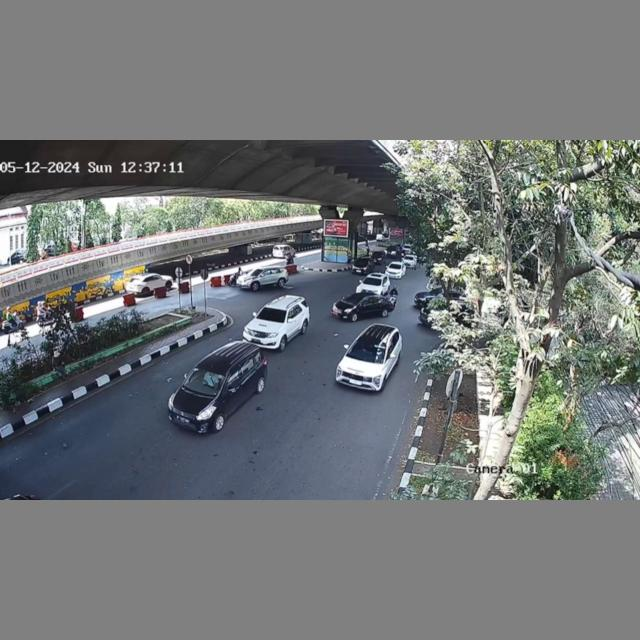windshield: (185, 367, 226, 396), (344, 338, 387, 361), (254, 305, 288, 324)
